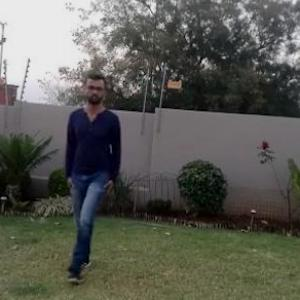follow: (70, 63, 147, 288)
